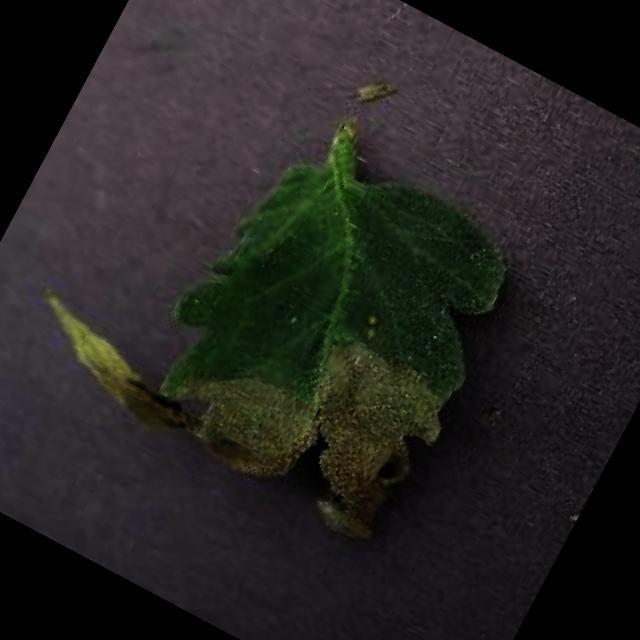Tomato late blight leaf: (12, 56, 542, 564)
